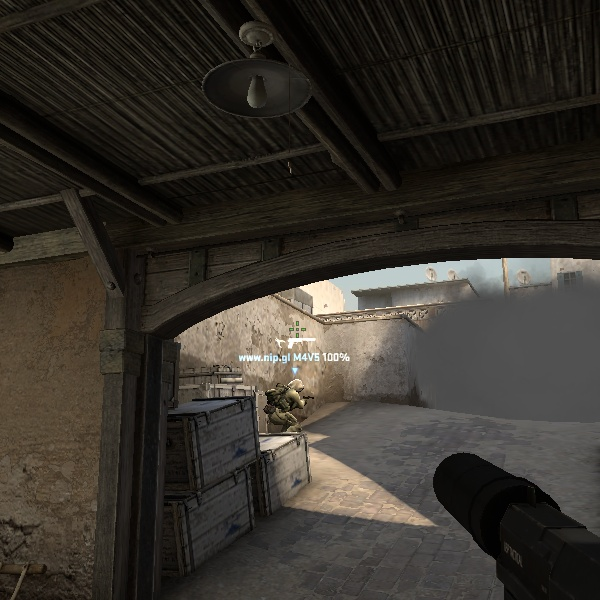ct_body: (265, 379, 307, 431)
ct_head: (287, 379, 304, 393)
